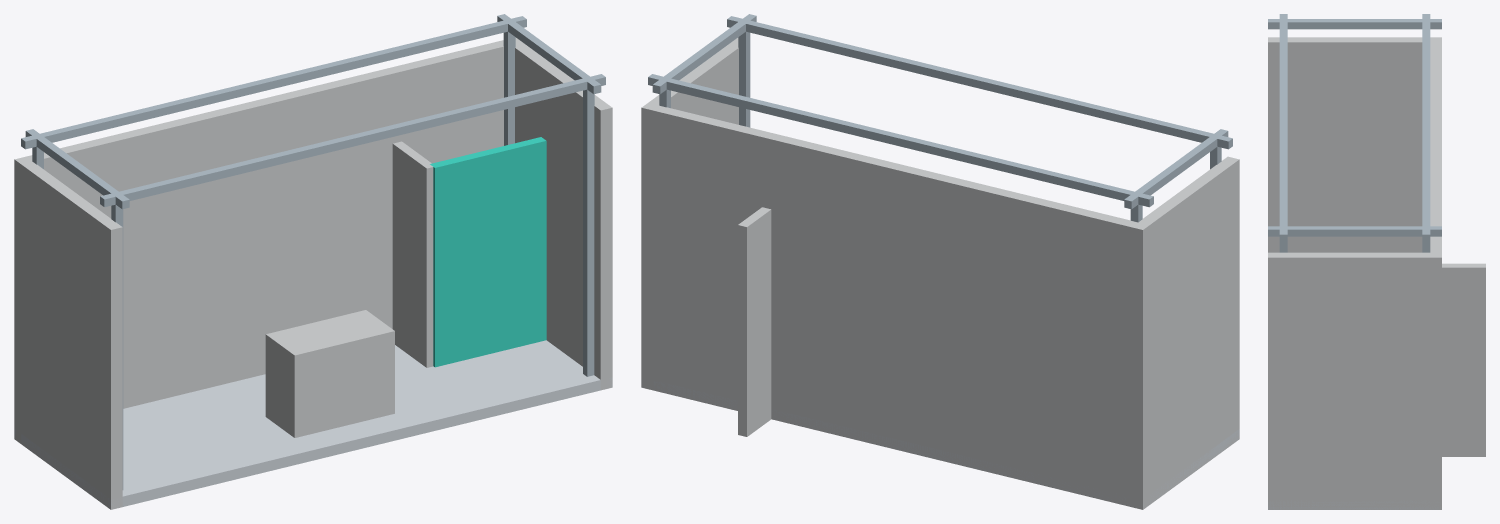
3 views of the same model, side by side, from view 1: azimuth 30°, elevation 25°; view 2: azimuth 150°, elevation 25°; view 3: azimuth 270°, elevation 25° (orthographic). The views are drawn at different scales.
Parts seen in each view (by area): view 1: Exhibition Booth Concept; view 2: Exhibition Booth Concept; view 3: Exhibition Booth Concept.
Boxes of the visible parts, x1,y1,x2,y2 form: Exhibition Booth Concept: [14, 14, 612, 509]; Exhibition Booth Concept: [641, 14, 1239, 509]; Exhibition Booth Concept: [1268, 14, 1485, 509].
Bounding box in the file's own units: 6 × 3.49 × 2.5.
